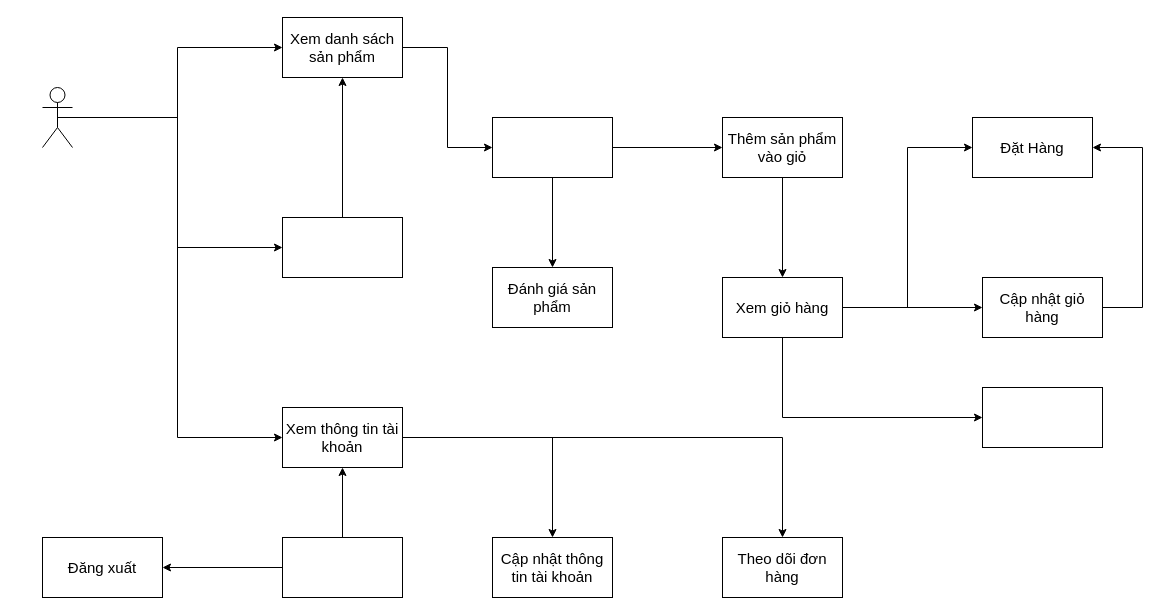
Some shapes in this 1168 by 615 pixel diagram are drawn without their labels. Each missing label, with the centre of its shape:
"Khách hàng" belongs at point (57, 117).
"Tìm kiếm sản phẩm mong muốn" belongs at point (342, 247).
"Xem chi tiết sản phẩm" belongs at point (552, 147).
"Xóa giỏ hàng" belongs at point (1042, 417).
"Đăng nhập" belongs at point (342, 567).
